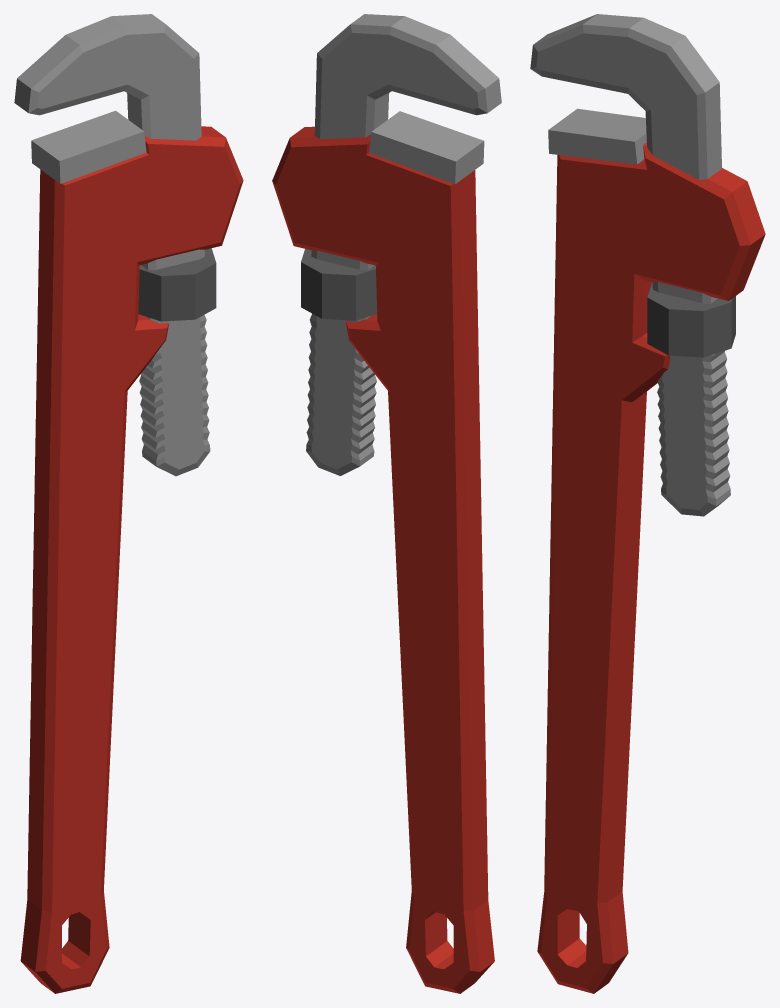
The model's file is Nut_Key_Adjust_mat.fbx.
3 views of the same model, side by side, from view 1: azimuth 30°, elevation 25°; view 2: azimuth 150°, elevation 25°; view 3: azimuth 330°, elevation 25° (orthographic). The views are drawn at different scales.
Visible parts, largest first — view 1: Nut_Key_Adjust_mat; view 2: Nut_Key_Adjust_mat; view 3: Nut_Key_Adjust_mat.
Part boxes in pixels (box(x1,y1,x2,y2)): Nut_Key_Adjust_mat: box(14, 14, 243, 993); Nut_Key_Adjust_mat: box(272, 14, 501, 993); Nut_Key_Adjust_mat: box(530, 14, 765, 993).
Size of the model in its own units: 9.28 by 39.22 by 3.35.
